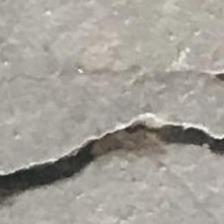Crack: (0, 113, 224, 207)
